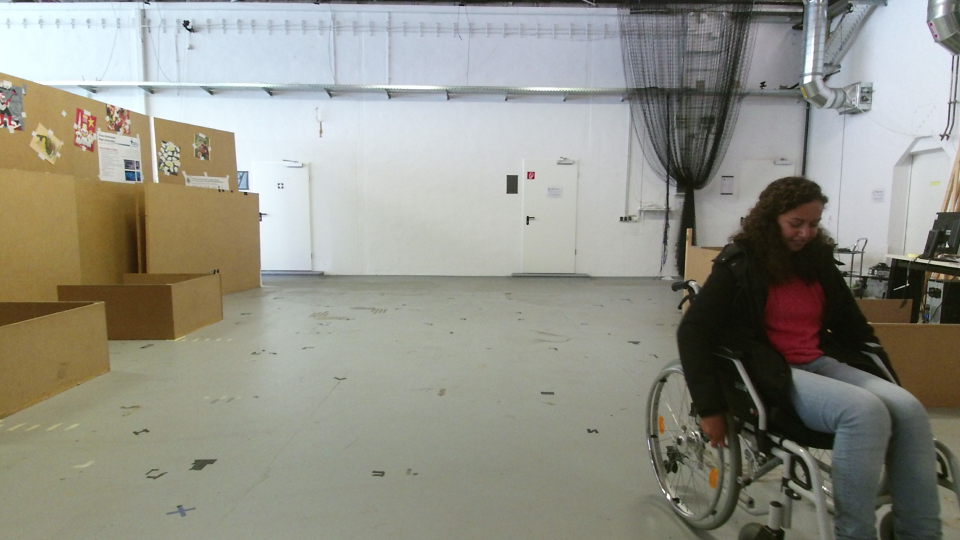wheelchair: (646, 173, 960, 540)
